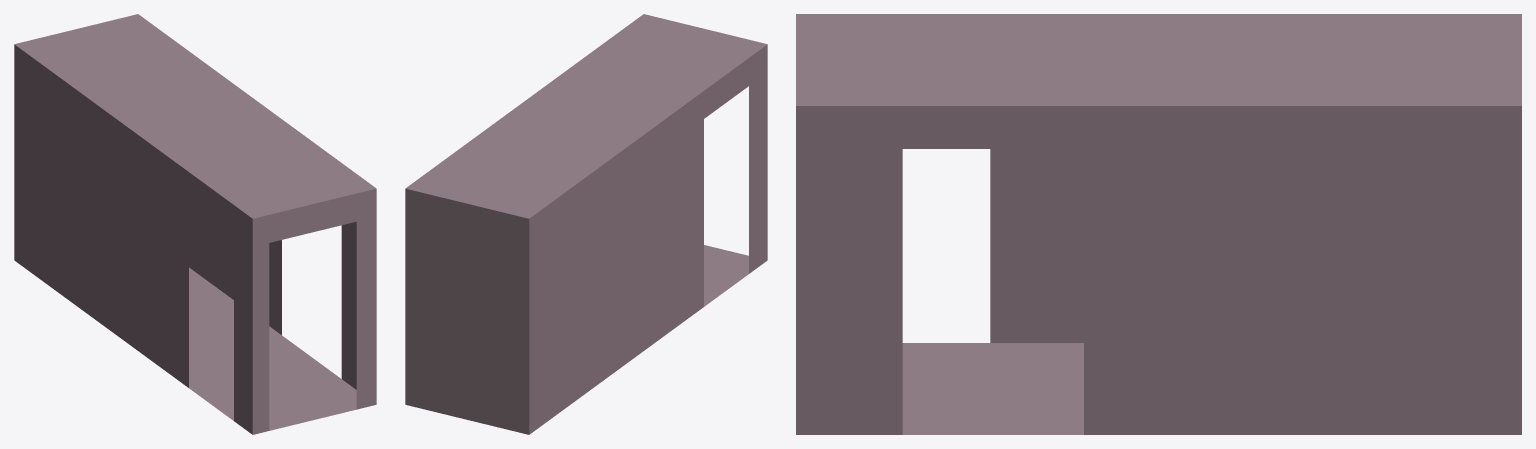
File: hallway.fbx
3 renders of one model, left to right at view 1: azimuth 30°, elevation 25°; view 2: azimuth 150°, elevation 25°; view 3: azimuth 270°, elevation 25°, orthographic. The views are drawn at different scales.
Parts seen in each view (by area): view 1: hallway; view 2: hallway; view 3: hallway.
Boxes of the visible parts, left/top/right/bottom form: hallway: left=14, top=14, right=376, bottom=434; hallway: left=405, top=14, right=767, bottom=434; hallway: left=796, top=14, right=1521, bottom=434.
Bounding box in the file's own units: 600 × 1000 × 2000.
